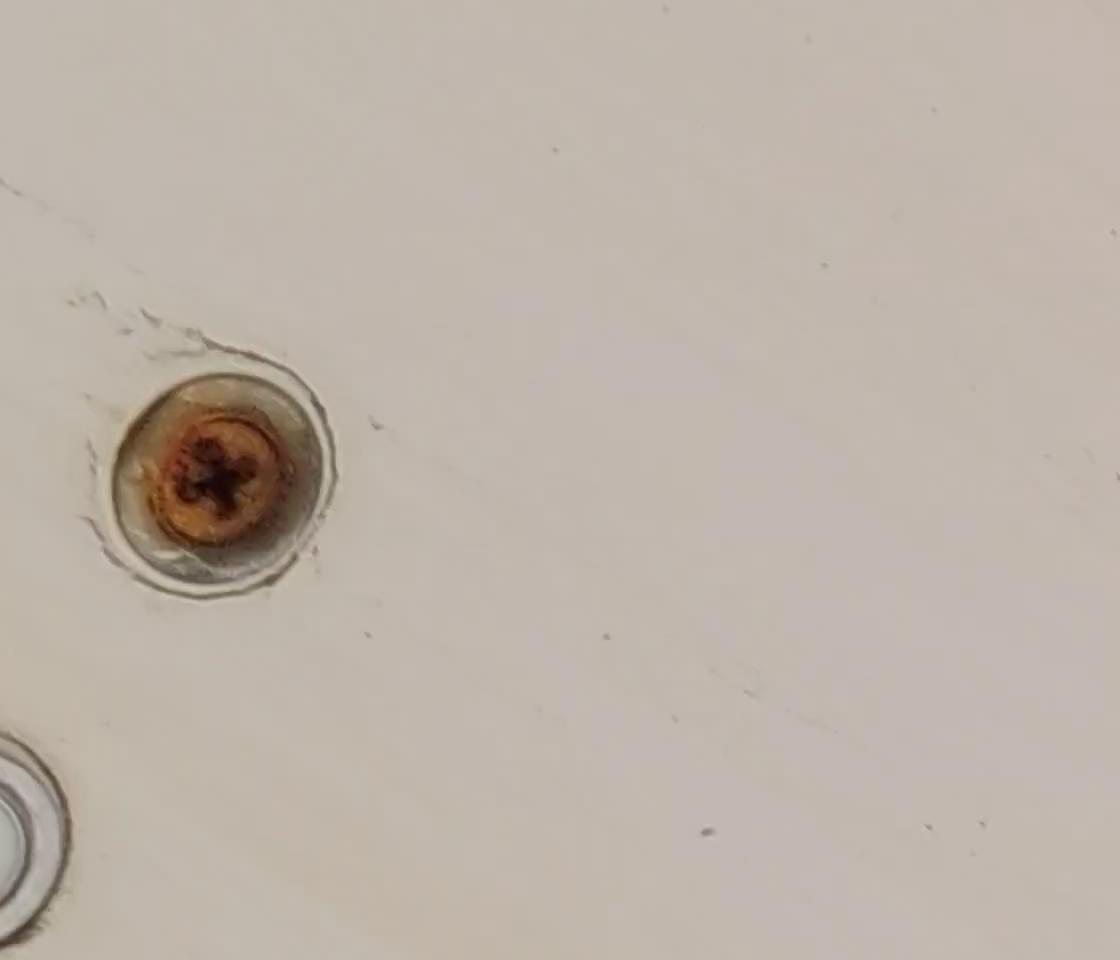rivet_damage: (109, 375, 330, 590)
